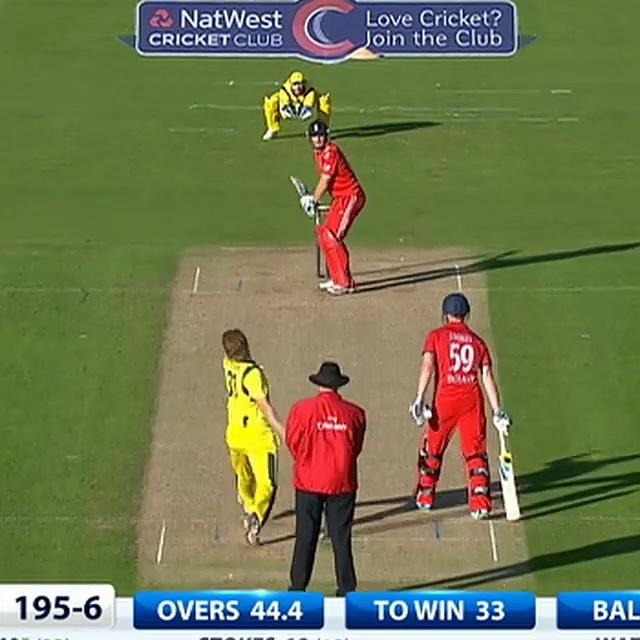umpire: (277, 353, 377, 596)
